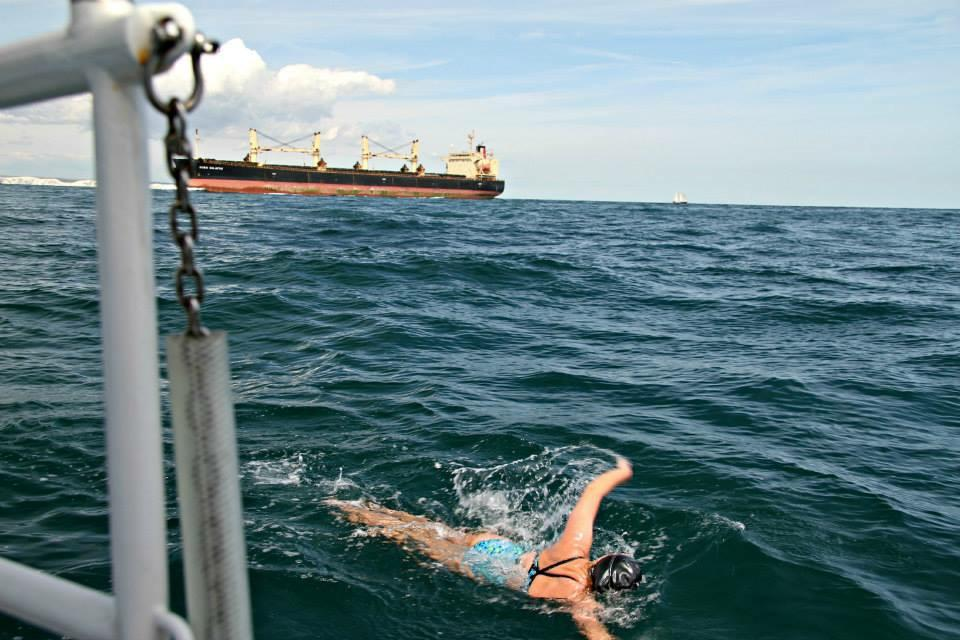human: (318, 447, 667, 638)
